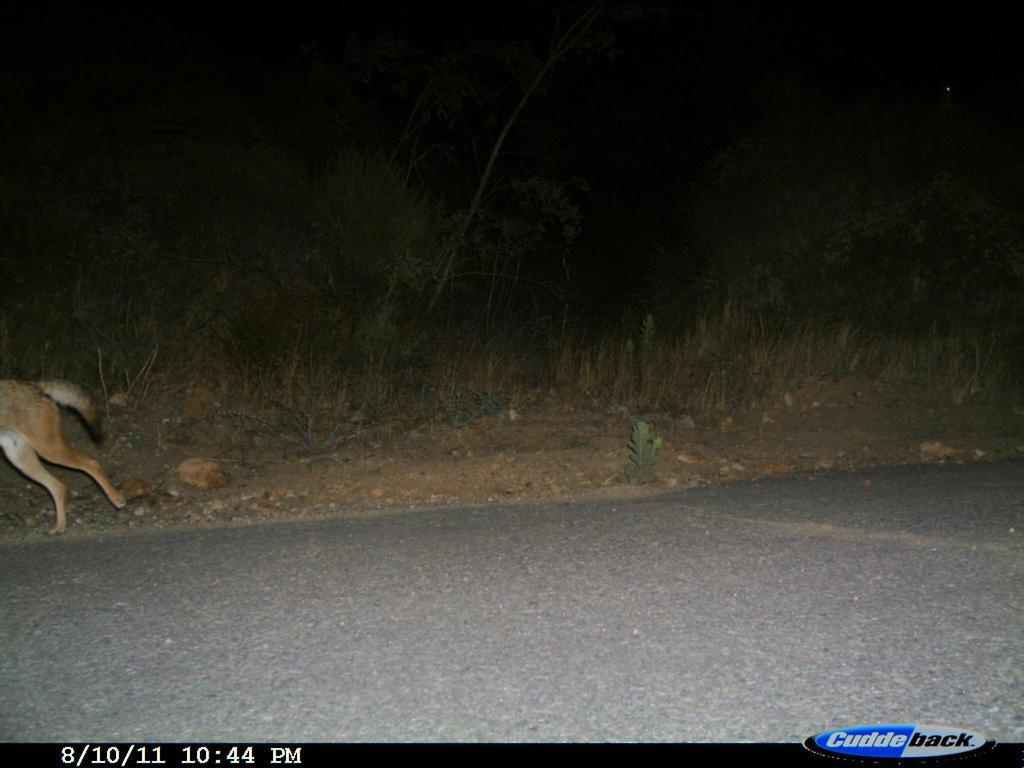coyote: (1, 349, 164, 554)
